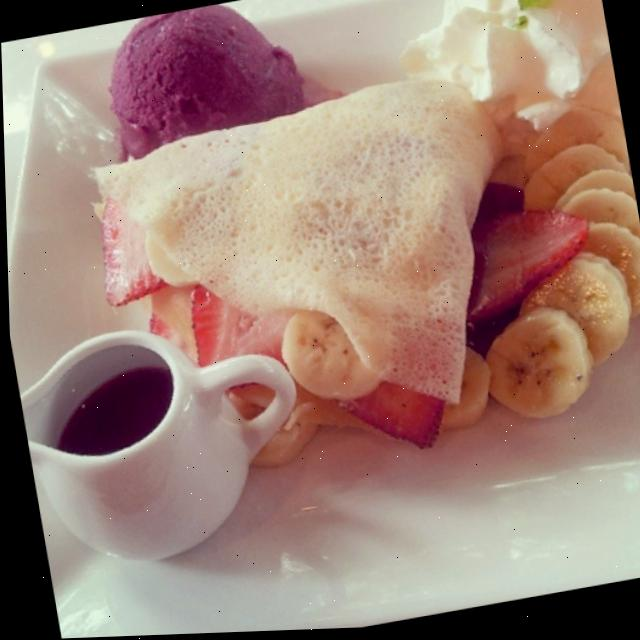蛋糕甜品: (72, 8, 598, 509)
